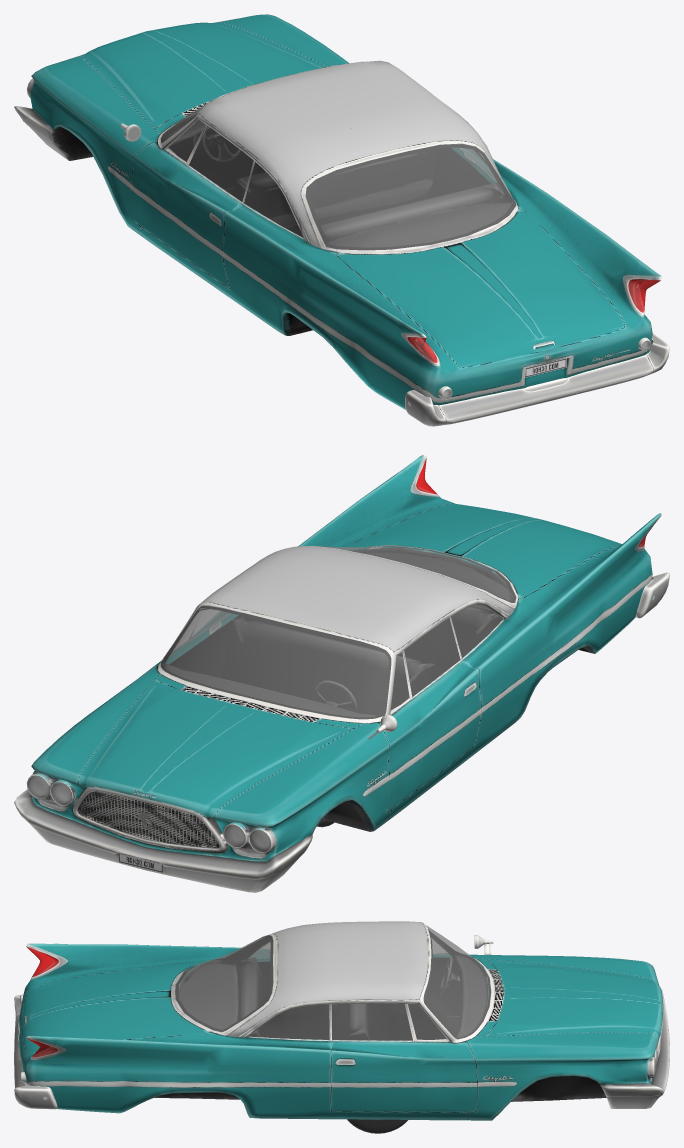
Rendered from saratoga.glb.
The picture shows the model from 3 angles, top to bottom: view 1: azimuth 30°, elevation 25°; view 2: azimuth 150°, elevation 25°; view 3: azimuth 270°, elevation 25°; orthographic projection. The views are drawn at different scales.
Parts seen in each view (by area): view 1: saratoga; view 2: saratoga; view 3: saratoga.
Part boxes in pixels (x1,y1,x2,y2): saratoga: [14, 14, 669, 426]; saratoga: [14, 455, 669, 892]; saratoga: [14, 921, 669, 1133].
Size of the model in its own units: 2.16 by 1.74 by 5.73.
6 materials, 6 textured.
